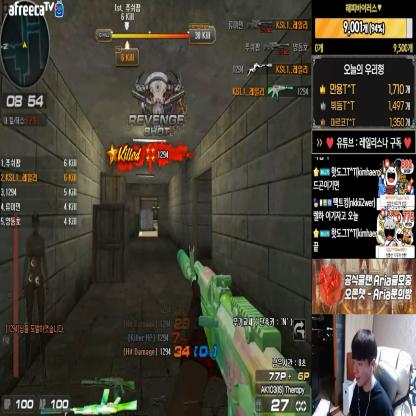donation: (373, 156, 416, 212), (373, 209, 416, 259)
streamer: (346, 327, 393, 416)
